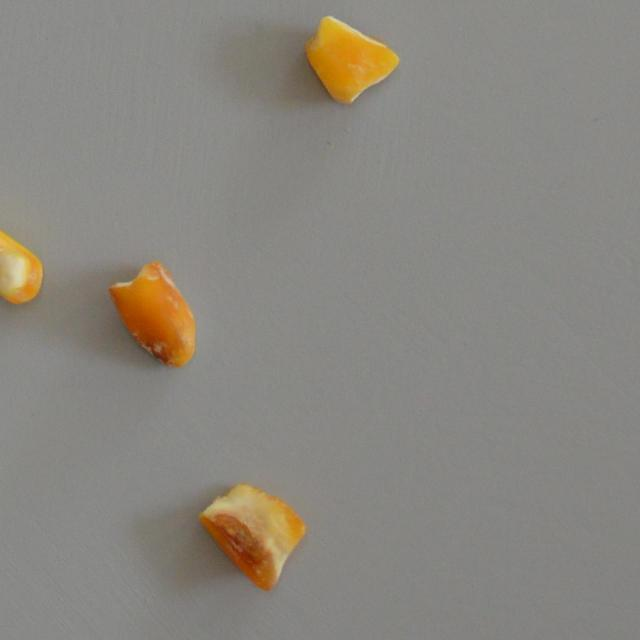dañado: (194, 474, 312, 594), (104, 252, 200, 372), (302, 10, 402, 110), (0, 205, 46, 308)
